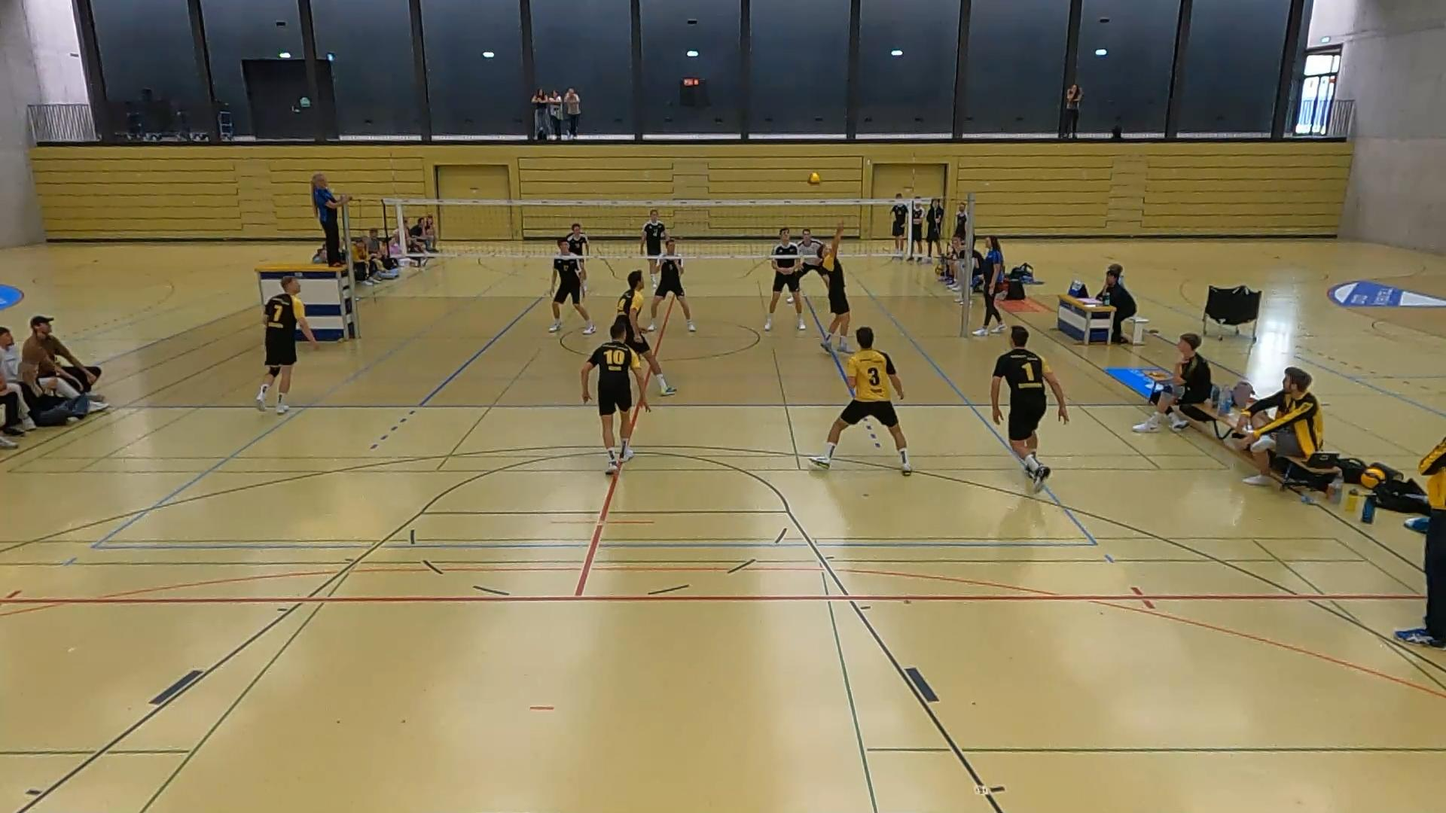Player: (810, 327, 912, 475), (990, 326, 1068, 492), (581, 316, 650, 473), (255, 276, 318, 414), (617, 269, 676, 396), (548, 238, 596, 334), (647, 238, 695, 331), (764, 228, 805, 330), (639, 209, 667, 285), (566, 223, 589, 296), (797, 228, 823, 285)
Set: (803, 226, 863, 353)
ball: (805, 169, 821, 190)
